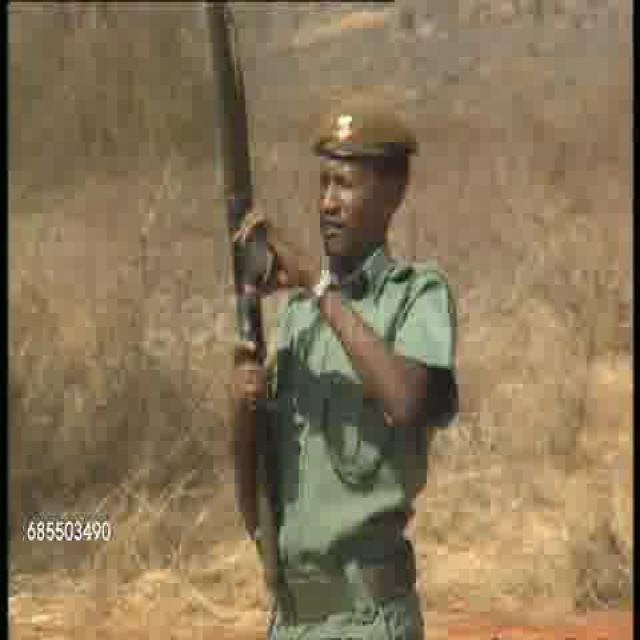poacher: (282, 39, 474, 459)
weapon: (206, 9, 286, 578)
